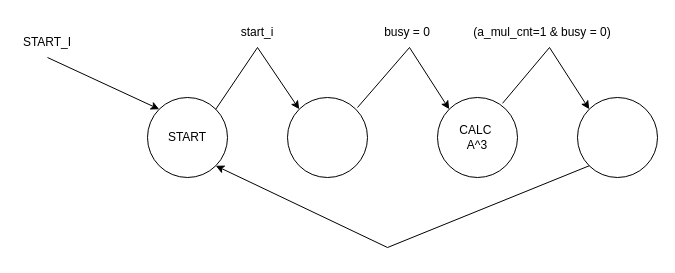
Image size: 675x273. Some labels were removed from this diagram. The box of each missing label's shape, as (x1, y1, x2, y2) in pixels:
CALC A*B: (286, 96, 368, 178)
SUM: (576, 96, 658, 178)
